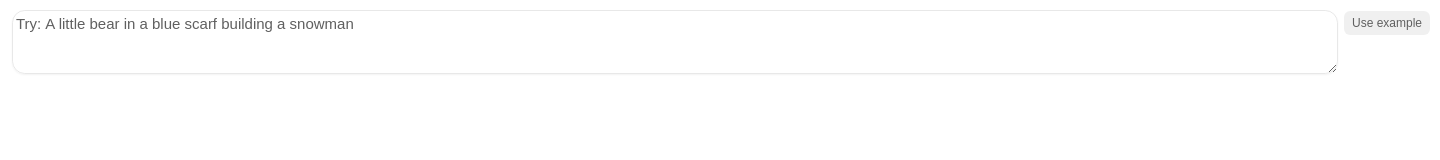
Scenario: classic draw composer example › once there is text, "Use example" goes away
Type "一只橘猫" into the text box at (675, 42), box [12,10,1338,74]
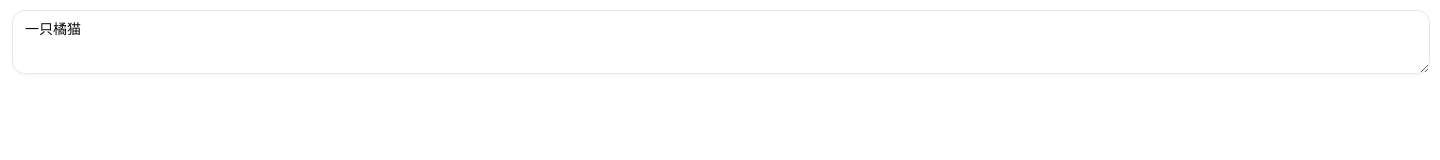
expect the button "Use example" is gone: met
